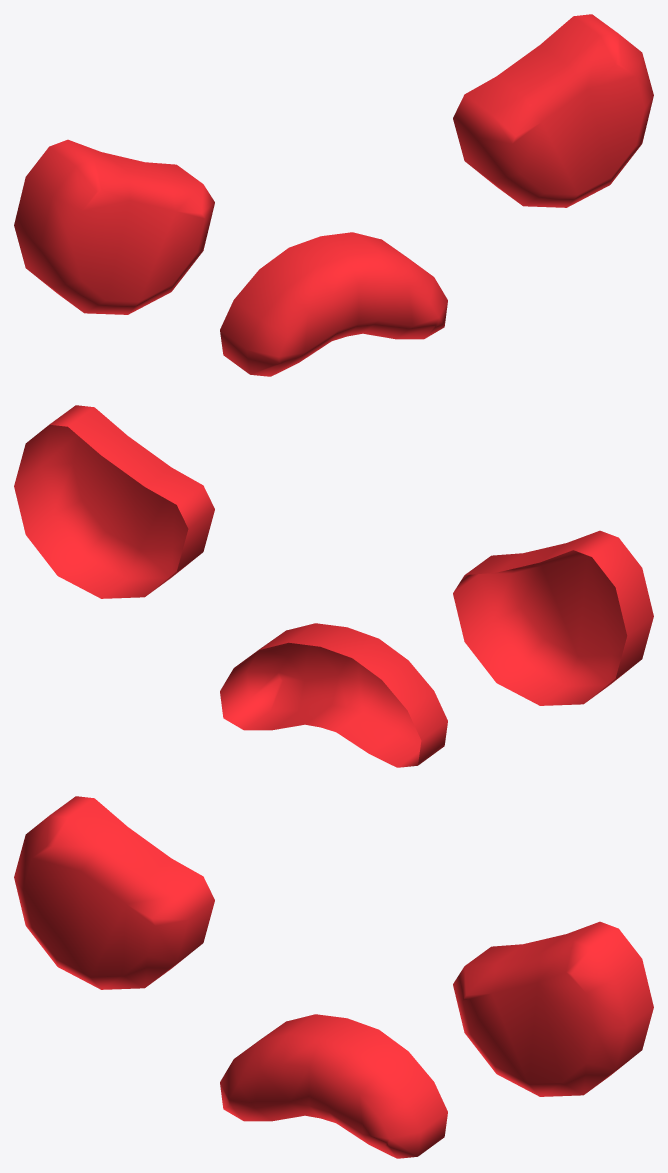
File: Drone_002_Face_Angry_001.fbx
The picture shows the model from 3 angles, top to bottom: view 1: azimuth 30°, elevation 25°; view 2: azimuth 150°, elevation 25°; view 3: azimuth 330°, elevation 25°; orthographic projection.
Parts seen in each view (by area): view 1: Drone_002_Face_Angry_001; view 2: Drone_002_Face_Angry_001; view 3: Drone_002_Face_Angry_001.
Part boxes in pixels (x1,y1,x2,y2): Drone_002_Face_Angry_001: (14,14,653,376); Drone_002_Face_Angry_001: (14,405,653,767); Drone_002_Face_Angry_001: (14,796,653,1158).
Bounding box in the file's own units: 11.16 × 1.2 × 4.53.
